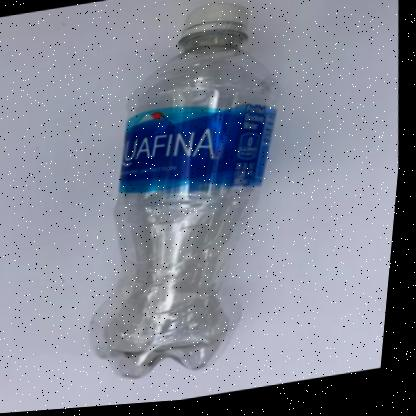Plastic: (96, 6, 279, 381)
